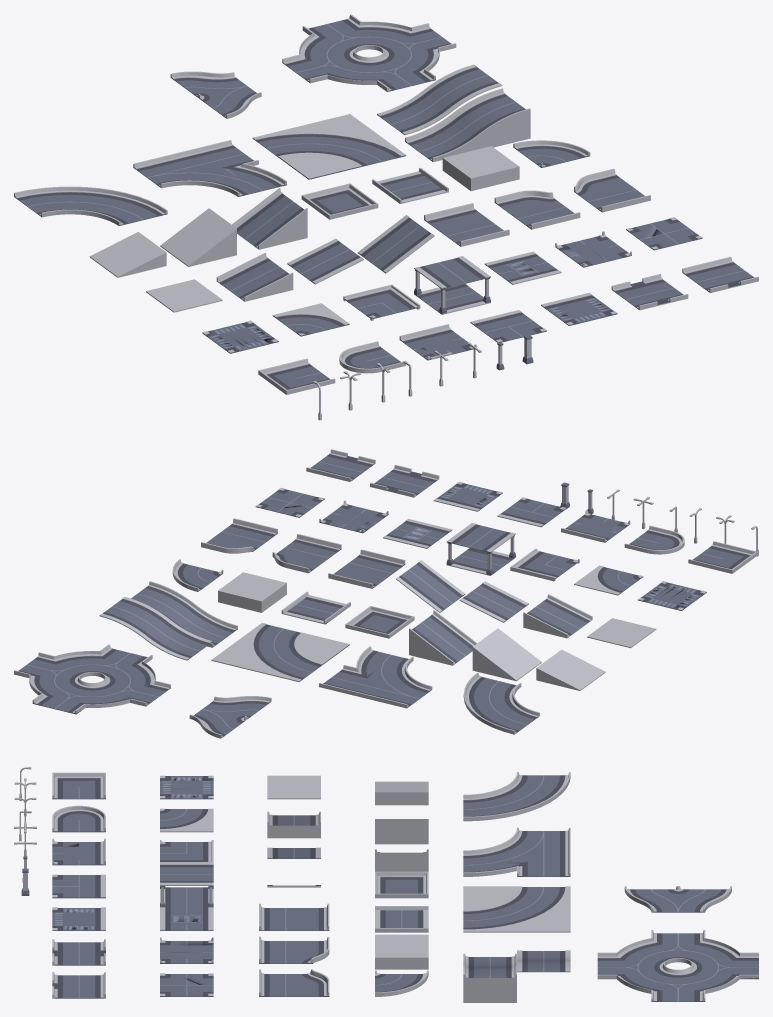
File: roads.obj
3 views of the same model, one above another, from view 1: azimuth 30°, elevation 25°; view 2: azimuth 150°, elevation 25°; view 3: azimuth 270°, elevation 25° (orthographic). The views are drawn at different scales.
Parts seen in each view (by area): view 1: road_roundabout, road_curvePavement, road_slantCurve, road_curveIntersection, road_curve, road_slantFlat.001, road_bridge, road_slantHigh, tile_slantHigh, road_splitBarrier, tile_high, road_slant (+23 smaller); view 2: road_roundabout, road_curvePavement, road_curveIntersection, road_slantFlat.001, road_curve, road_slantCurve, road_bridge, road_slantHigh, tile_slantHigh, road_splitBarrier, tile_high, road_slant (+23 smaller); view 3: road_roundabout, road_curvePavement, road_curveIntersection, road_curve, road_slantCurve, road_bridge, road_splitBarrier, tile_high, road_sideExit, road_side, road_sideEntry, road_square (+22 smaller).
Boxes of the visible parts, box(x1,y1,x2,y2) form: road_roundabout: box(282, 14, 456, 91); road_curvePavement: box(252, 114, 406, 179); road_slantCurve: box(405, 88, 530, 162); road_curveIntersection: box(133, 140, 286, 196); road_curve: box(14, 186, 167, 225); road_slantFlat.001: box(377, 64, 502, 135); road_bridge: box(414, 256, 490, 314); road_slantHigh: box(232, 188, 307, 249); tile_slantHigh: box(160, 208, 236, 266); road_splitBarrier: box(170, 71, 261, 118); tile_high: box(442, 146, 519, 190); road_slant: box(216, 252, 293, 301); road_roundabout: box(14, 644, 170, 714); road_curvePavement: box(211, 623, 349, 681); road_curveIntersection: box(319, 646, 432, 708); road_slantFlat.001: box(99, 597, 212, 660); road_curve: box(463, 672, 539, 734); road_slantCurve: box(131, 581, 237, 647); road_bridge: box(446, 523, 515, 575); road_slantHigh: box(409, 610, 477, 665); tile_slantHigh: box(472, 628, 541, 681); road_splitBarrier: box(189, 696, 271, 738); tile_high: box(218, 572, 286, 612); road_slant: box(523, 594, 592, 638); road_roundabout: box(597, 930, 758, 1001); road_curvePavement: box(463, 886, 570, 932); road_curveIntersection: box(463, 827, 570, 876); road_curve: box(463, 772, 570, 821); road_slantCurve: box(463, 953, 516, 1002); road_bridge: box(160, 862, 213, 907); road_splitBarrier: box(624, 886, 731, 912); tile_high: box(375, 934, 428, 969); road_sideExit: box(259, 969, 329, 996); road_side: box(259, 903, 329, 930); road_sideEntry: box(259, 936, 329, 963); road_square: box(375, 871, 428, 898).
Size of the model in its own units: 9.95 by 0.7225 by 13.86.
